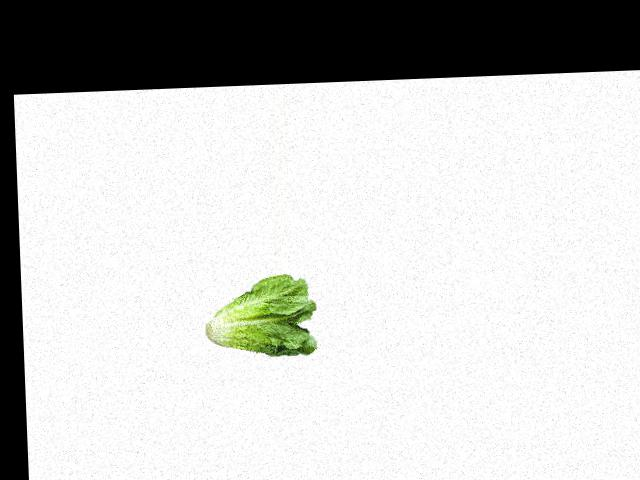lettuce: (200, 274, 318, 361)
